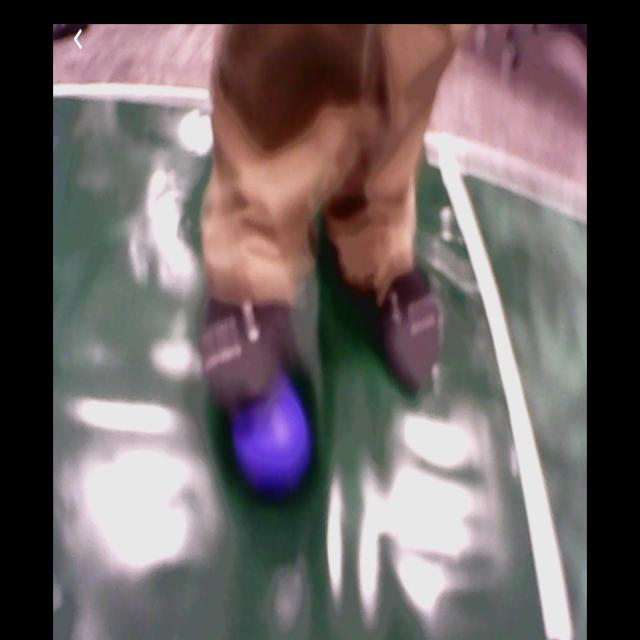ball: (234, 384, 309, 492)
